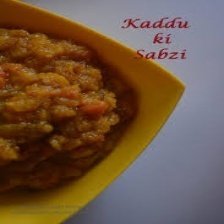sabzi: (0, 19, 146, 199)
